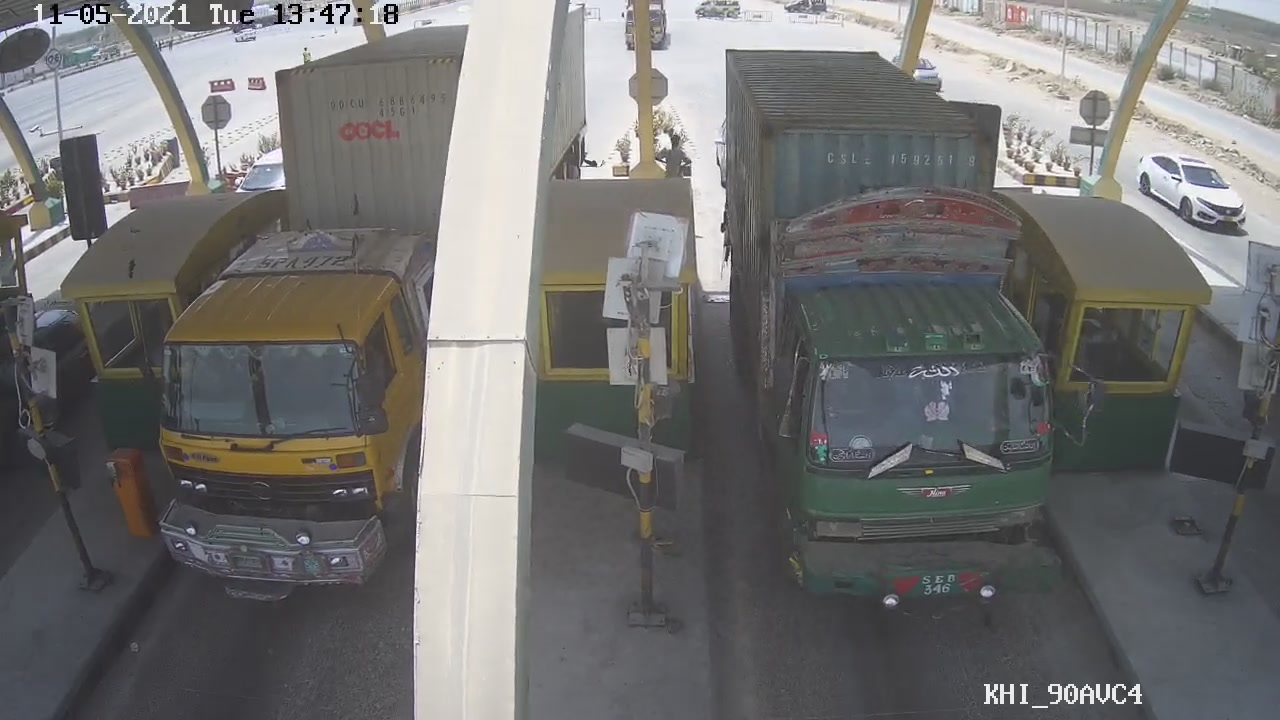F6: (718, 48, 1086, 613)
